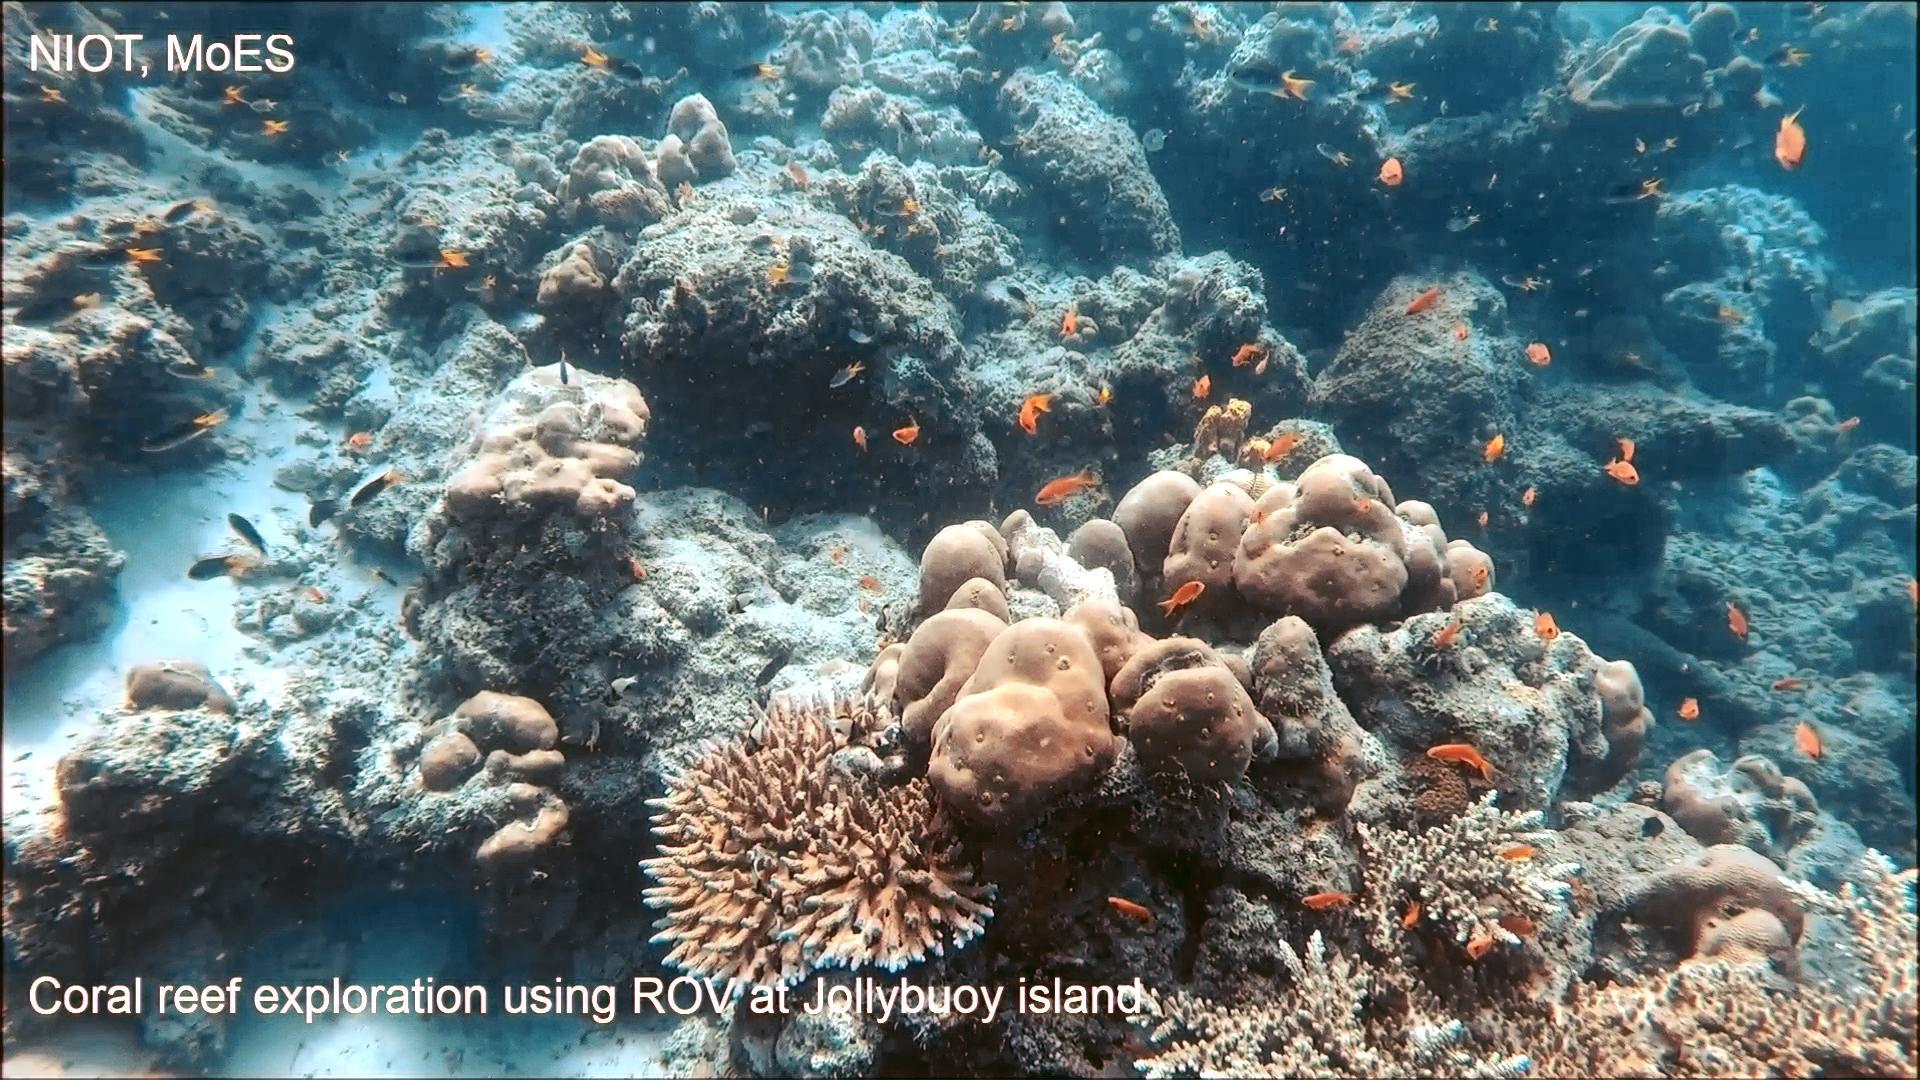Porites-Porites pukoensis: (864, 504, 1266, 832), (1100, 447, 1502, 624)
